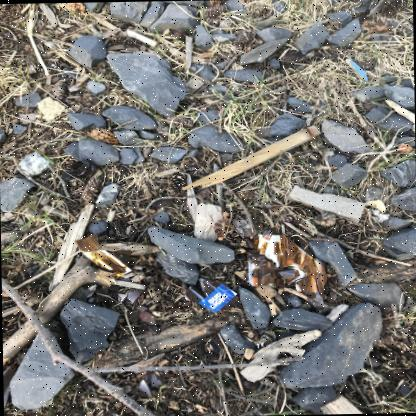Broken glass: (92, 248, 244, 353), (273, 235, 301, 267), (250, 252, 274, 286), (296, 273, 322, 303), (67, 159, 96, 178), (123, 288, 146, 307), (75, 233, 99, 251), (129, 379, 153, 397), (274, 268, 300, 279), (315, 274, 326, 298), (299, 253, 312, 270), (302, 258, 315, 273), (313, 258, 325, 274), (150, 371, 162, 386), (243, 271, 252, 286), (273, 277, 285, 288), (90, 250, 106, 258), (114, 293, 126, 303), (259, 241, 267, 254), (139, 373, 149, 383), (261, 230, 272, 239), (88, 297, 106, 302), (251, 237, 258, 249), (250, 234, 259, 242), (285, 279, 295, 284), (315, 266, 320, 274)
